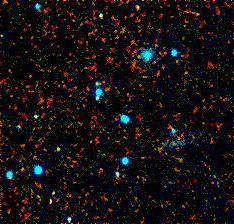star: (123, 0, 153, 22)
